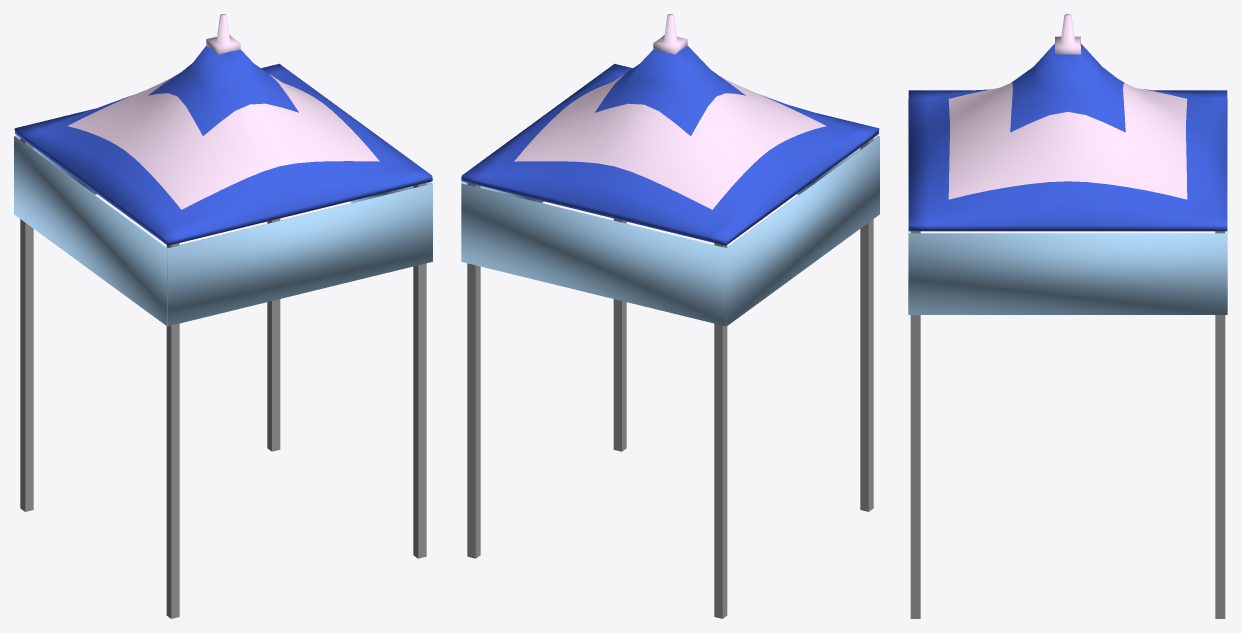
The model's file is Dumi_1.fbx.
3 renders of one model, left to right at view 1: azimuth 30°, elevation 25°; view 2: azimuth 150°, elevation 25°; view 3: azimuth 270°, elevation 25°, orthographic. The views are drawn at different scales.
Visible parts, largest first — view 1: Plane, Plane.005, Plane.001, Plane.002, Plane.004; view 2: Plane, Plane.005, Plane.001, Plane.002, Plane.004; view 3: Plane, Plane.002, Plane.001, Plane.004.
Part boxes in pixels (bbox=[...]): Plane: bbox=[14, 45, 432, 245]; Plane.005: bbox=[14, 135, 432, 326]; Plane.001: bbox=[20, 138, 426, 618]; Plane.002: bbox=[14, 136, 432, 325]; Plane.004: bbox=[206, 14, 240, 54]; Plane: bbox=[461, 45, 879, 245]; Plane.005: bbox=[461, 135, 879, 326]; Plane.001: bbox=[467, 138, 873, 618]; Plane.002: bbox=[461, 136, 879, 325]; Plane.004: bbox=[653, 14, 687, 54]; Plane: bbox=[908, 43, 1227, 231]; Plane.002: bbox=[908, 233, 1227, 314]; Plane.001: bbox=[910, 231, 1225, 618]; Plane.004: bbox=[1055, 14, 1080, 54].
Size of the model in its own units: 345 by 642 by 345.
Materials: 4 (1 with a texture image).
